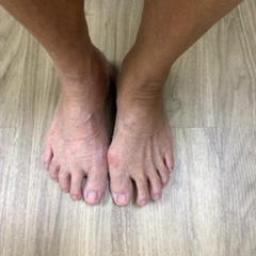Dorsal View -Both Feet-: (15, 28, 203, 223)
